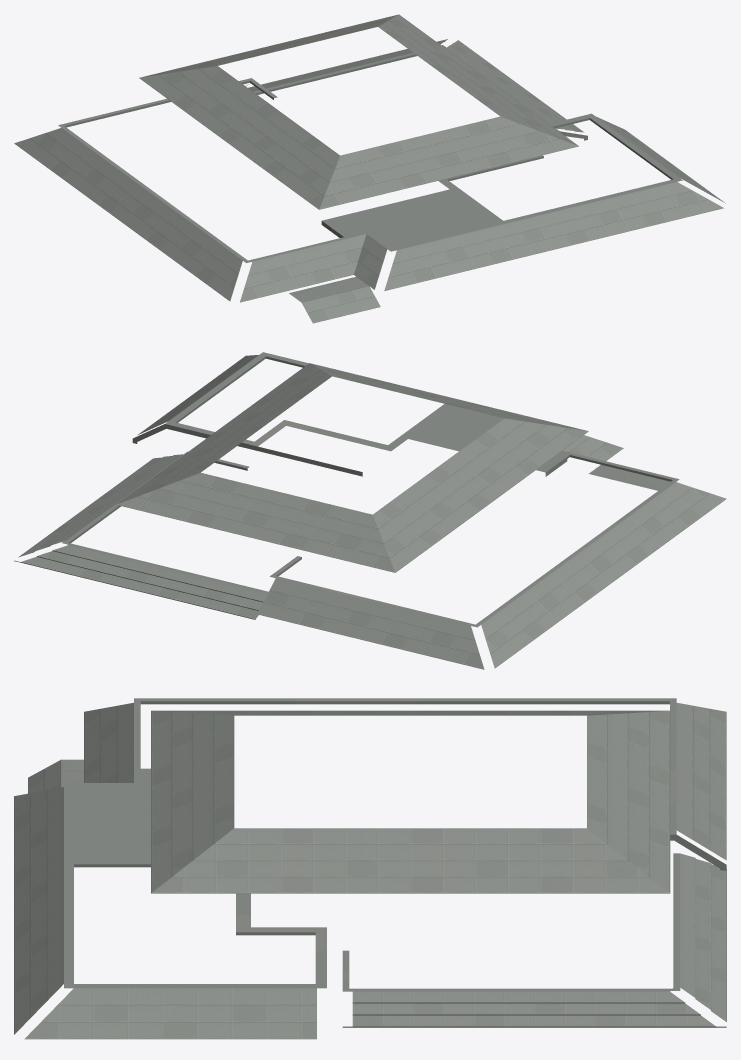
File: kd_stage_135ded_4_94_bounded.glb
The picture shows the model from 3 angles, top to bottom: view 1: azimuth 30°, elevation 25°; view 2: azimuth 150°, elevation 25°; view 3: azimuth 270°, elevation 25°; orthographic projection. The views are drawn at different scales.
Parts seen in each view (by area): view 1: kd_stage_135ded_4_94_bounded; view 2: kd_stage_135ded_4_94_bounded; view 3: kd_stage_135ded_4_94_bounded.
Part boxes in pixels (bbox=[...]): kd_stage_135ded_4_94_bounded: bbox=[14, 14, 725, 323]; kd_stage_135ded_4_94_bounded: bbox=[14, 352, 726, 669]; kd_stage_135ded_4_94_bounded: bbox=[14, 698, 726, 1039].
Bounding box in the file's own units: 11.8 × 2.18 × 10.71.
1 material, 1 textured.
